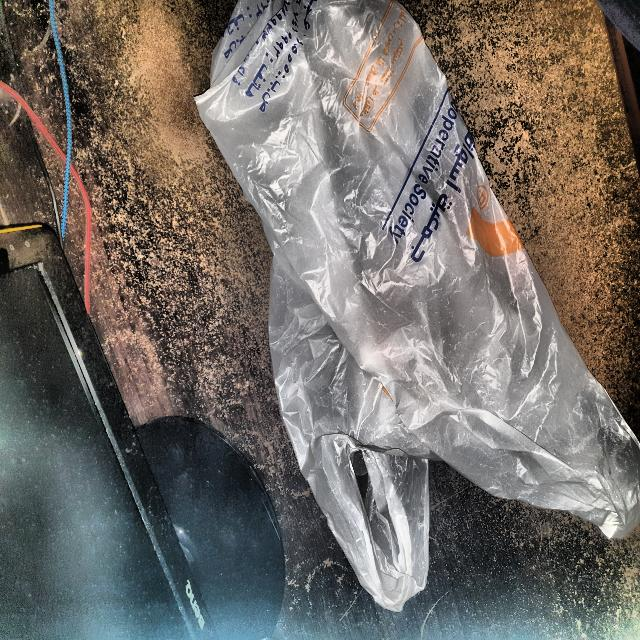plastic bag: (182, 0, 640, 623)
